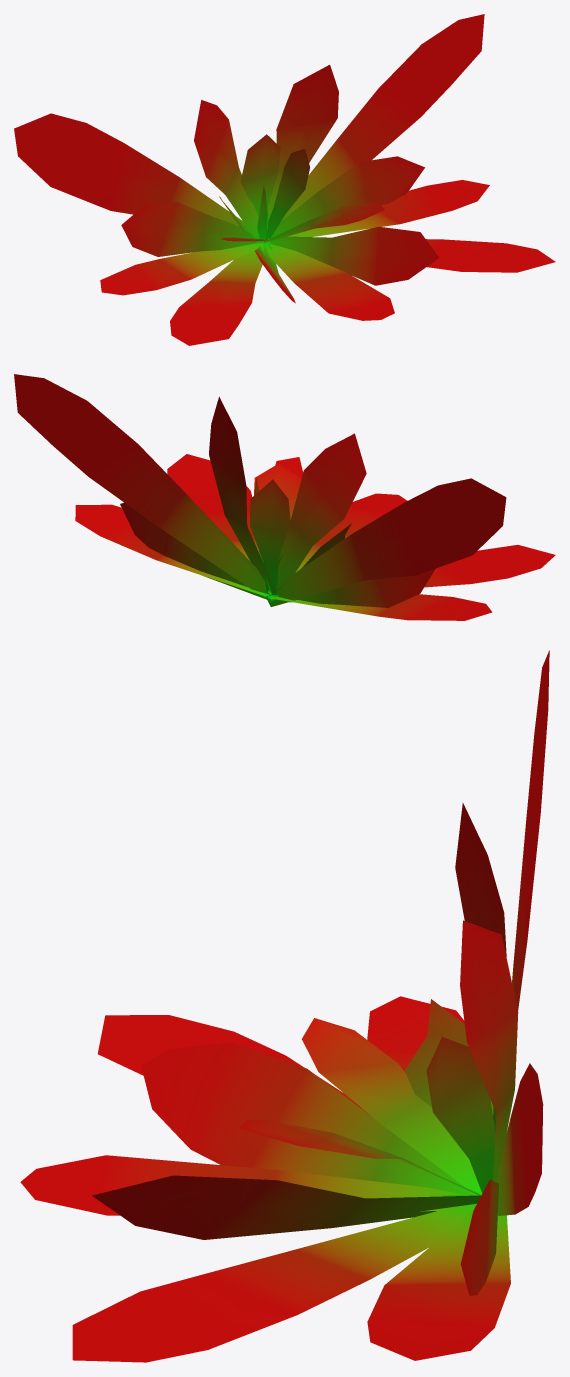
Rendered from Var11_LOD2.fbx.
The picture shows the model from 3 angles, top to bottom: view 1: azimuth 30°, elevation 25°; view 2: azimuth 150°, elevation 25°; view 3: azimuth 270°, elevation 25°; orthographic projection. The views are drawn at different scales.
Visible parts, largest first — view 1: _ck0y_Var11_LOD2; view 2: _ck0y_Var11_LOD2; view 3: _ck0y_Var11_LOD2.
Part boxes in pixels (x1,y1,x2,y2): _ck0y_Var11_LOD2: [14, 14, 555, 345]; _ck0y_Var11_LOD2: [14, 374, 555, 620]; _ck0y_Var11_LOD2: [20, 650, 549, 1362].
Size of the model in its own units: 25.11 by 9.24 by 12.27.
